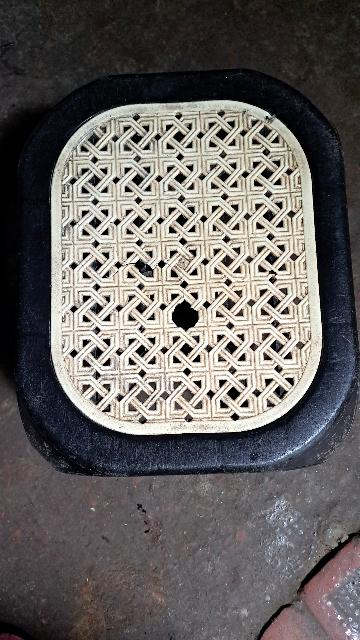hardplastic: (0, 44, 360, 508)
